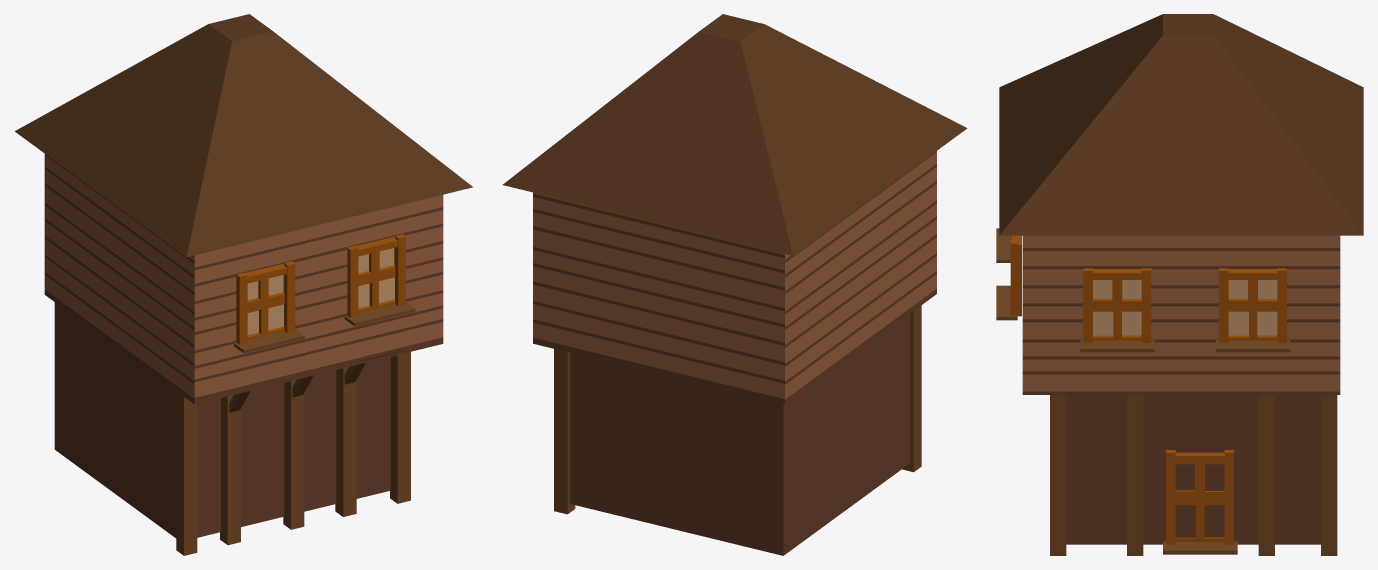
Rendered from house2.fbx.
The picture shows the model from 3 angles, left to right: view 1: azimuth 30°, elevation 25°; view 2: azimuth 150°, elevation 25°; view 3: azimuth 270°, elevation 25°; orthographic projection. The views are drawn at different scales.
Parts seen in each view (by area): view 1: Plane, Cube.006, Cube.015, Cube.011; view 2: Plane, Cube.006; view 3: Plane, Cube.006, Cube.012, Cube.013, Cube.001, Cube.011.
Boxes of the visible parts, box(x1,y1,x2,y2) form: Plane: box(15, 14, 472, 538); Cube.006: box(176, 352, 410, 555); Cube.015: box(234, 261, 304, 353); Cube.011: box(344, 234, 415, 326); Plane: box(502, 14, 967, 555); Cube.006: box(554, 305, 921, 514); Plane: box(999, 14, 1363, 544); Cube.006: box(1050, 395, 1337, 555); Cube.012: box(1080, 268, 1154, 352); Cube.013: box(1216, 268, 1290, 352); Cube.001: box(1163, 450, 1237, 554); Cube.011: box(996, 235, 1021, 320).
Bounding box in the file's own units: 947 × 1409 × 983.
